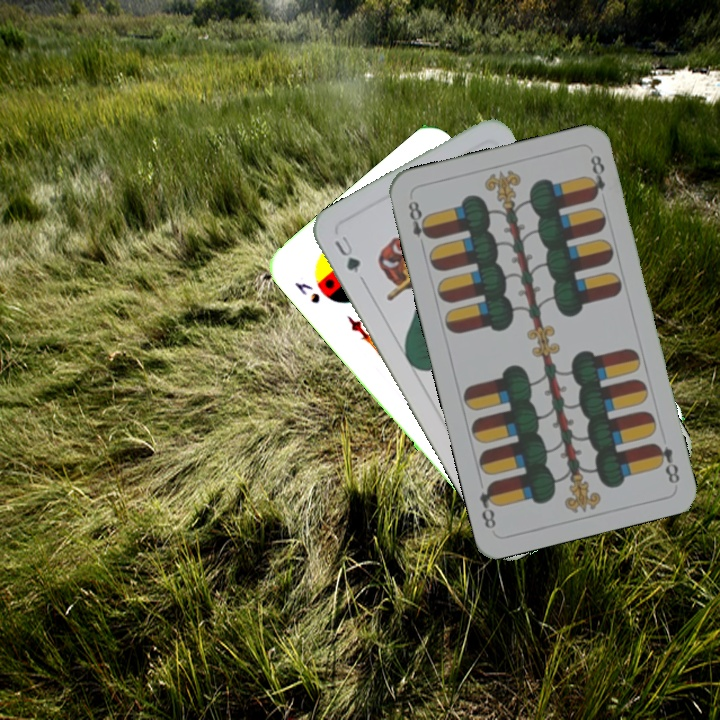E8: (404, 196, 434, 252), (649, 439, 682, 487)
GU: (330, 229, 363, 276)
SK: (290, 278, 323, 307)
